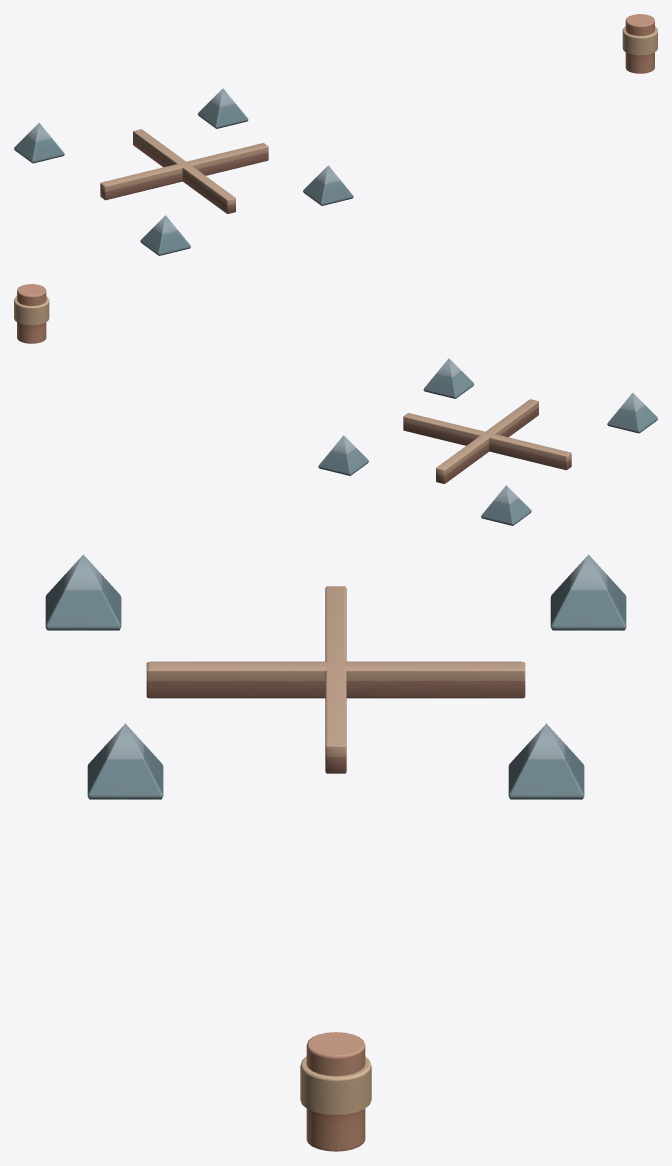
Rendered from Props.fbx.
3 views of the same model, one above another, from view 1: azimuth 30°, elevation 25°; view 2: azimuth 150°, elevation 25°; view 3: azimuth 270°, elevation 25° (orthographic). The views are drawn at different scales.
Visible parts, largest first — view 1: 三角锥 (×4), Box20-3_1, Box20-3_1 (1), Cylinder-2; view 2: 三角锥 (×4), Box20-3_1, Box20-3_1 (1), Cylinder-2; view 3: 三角锥 (×4), Box20-3_1 (1), Cylinder-2, Box20-3_1.
Part boxes in pixels (<box>): 三角锥 (×4): <box>14,88,353,255</box>; Box20-3_1: <box>100,143,268,200</box>; Box20-3_1 (1): <box>133,129,235,213</box>; Cylinder-2: <box>622,14,657,73</box>; 三角锥 (×4): <box>318,358,657,525</box>; Box20-3_1: <box>403,413,571,470</box>; Box20-3_1 (1): <box>436,399,538,483</box>; Cylinder-2: <box>14,284,49,343</box>; 三角锥 (×4): <box>45,554,626,799</box>; Box20-3_1 (1): <box>146,661,525,698</box>; Cylinder-2: <box>300,1032,371,1151</box>; Box20-3_1: <box>325,586,346,773</box>.
Bounding box in the file's own units: 62.48 × 5.05 × 27.6.
